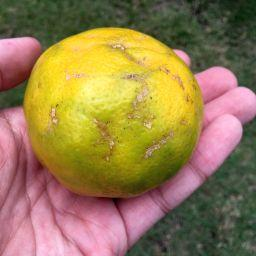Ripe: (24, 29, 203, 197)
